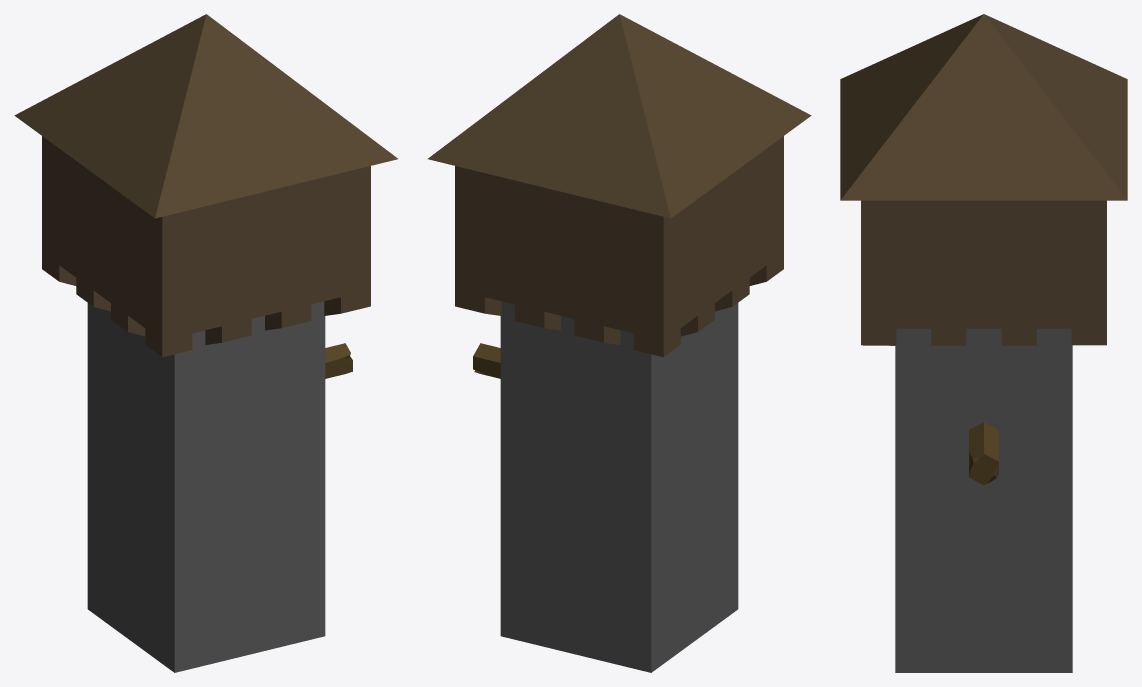
The model's file is TowerNew.fbx.
3 renders of one model, left to right at view 1: azimuth 30°, elevation 25°; view 2: azimuth 150°, elevation 25°; view 3: azimuth 270°, elevation 25°, orthographic. The views are drawn at different scales.
Visible parts, largest first — view 1: Colum, Base, Roof, Wood; view 2: Colum, Base, Roof, Wood; view 3: Colum, Roof, Base, Wood.
Boxes of the visible parts, x1,y1,x2,y2 form: Colum: (87,301,325,672); Base: (42,136,370,357); Roof: (14,14,397,218); Wood: (325,343,352,378); Colum: (500,301,738,672); Base: (455,136,783,357); Roof: (428,14,811,218); Wood: (473,343,500,378); Colum: (895,328,1072,672); Roof: (840,14,1127,200); Base: (861,200,1106,345); Wood: (969,422,998,484).
Size of the model in its own units: 113 by 251 by 105.
